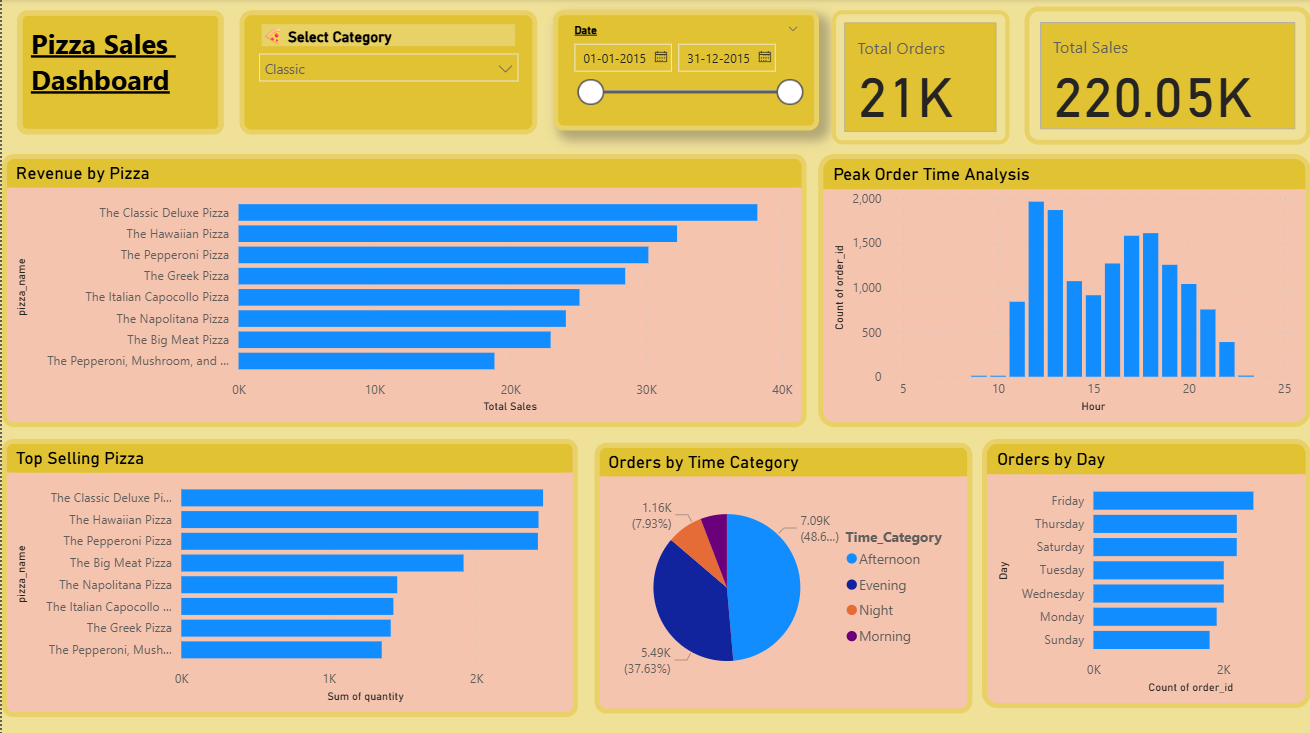

The dashboard page shown, as its layout file describes it:
{"tool":"powerbi","page":{"name":"Page 1","canvas":[1280,720],"ordinal":0},"visuals":[{"type":"columnChart","title":"Peak Order Time Analysis","fields":{"Category":["orders.Hour"],"Y":["CountNonNull(order_details.order_id)"]},"box":[798.8,151.2,481.2,267.5],"z":0},{"type":"columnChart","title":"Orders by Day","fields":{"Category":["orders.Day"],"Y":["CountNonNull(order_details.order_id)"]},"box":[826.2,430,453.8,263.8],"z":1000},{"type":"cardVisual","fields":{"Data":["order_details.Total Sales"]},"box":[1000,7.5,280,135],"z":2000},{"type":"columnChart","title":"Top Selling Pizza","fields":{"Y":["Sum(order_details.quantity)"],"Category":["pizza_types.Column2"]},"box":[0,430,463.8,272.5],"z":3000},{"type":"pieChart","title":"Orders by Time Category","fields":{"Category":["orders.Time_Category"],"Y":["CountNonNull(order_details.order_id)"]},"box":[481.2,435,331.2,263.8],"z":4000},{"type":"columnChart","title":"Revenue by Pizza","fields":{"Y":["order_details.Total Sales"],"Category":["pizza_types.pizza_name"]},"box":[0,151.2,787.5,267.5],"z":5000},{"type":"slicer","fields":{"Values":["orders.date"]},"box":[538.8,11.2,260,117.5],"z":6000},{"type":"slicer","fields":{"Values":["pizza_types.category"]},"box":[232.5,11.2,291.2,121.2],"z":7000},{"type":"cardVisual","fields":{"Data":["order_details.Total Orders"]},"box":[812.5,11.2,173.8,131.2],"z":7001},{"type":"textbox","box":[15,11.2,202.5,121.2],"z":7002}]}

Visuals, with their boxes in screenshot pixels (x1, y1, x2, y2), scaled from the page's 1280x720 canvas onto the 1310x733 screenshot:
"Peak Order Time Analysis" columnChart: region(818, 154, 1309, 426)
"Orders by Day" columnChart: region(846, 438, 1309, 706)
cardVisual - order_details.Total Sales: region(1023, 8, 1309, 145)
"Top Selling Pizza" columnChart: region(0, 438, 475, 715)
"Orders by Time Category" pieChart: region(492, 443, 831, 711)
"Revenue by Pizza" columnChart: region(0, 154, 806, 426)
slicer - orders.date: region(551, 11, 818, 131)
slicer - pizza_types.category: region(238, 11, 536, 135)
cardVisual - order_details.Total Orders: region(832, 11, 1009, 145)
textbox: region(15, 11, 223, 135)
